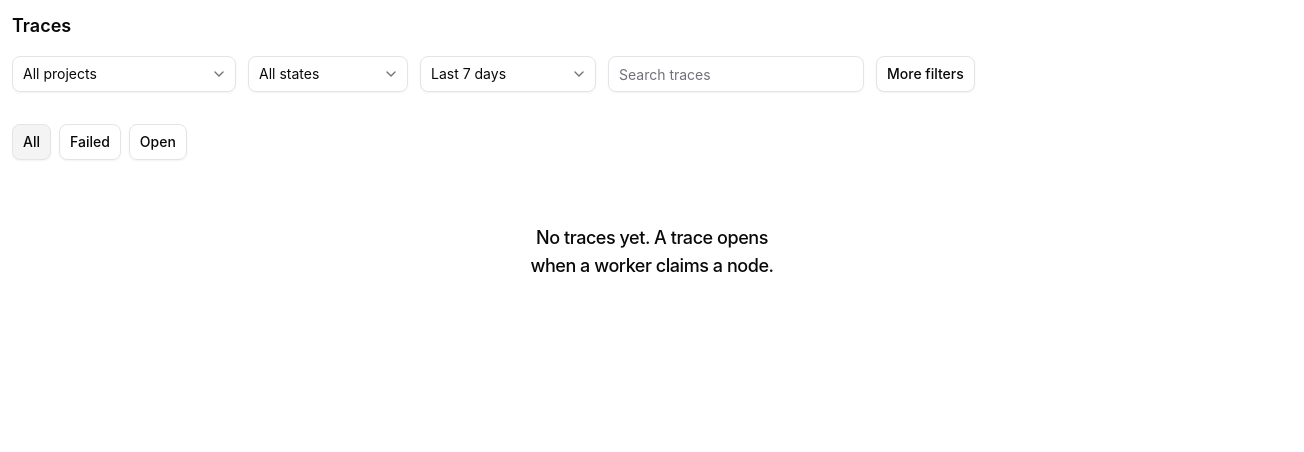
Test case: TracesScreen › shows the facet options that the server answered under More filters
Click the button "More filters": {"x": 925, "y": 74} [876, 56, 975, 92]
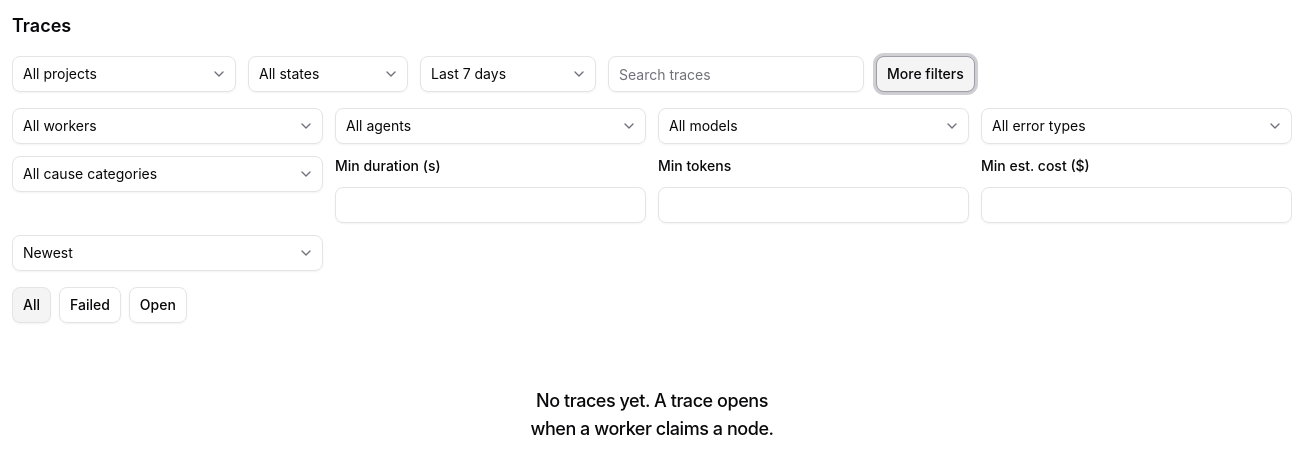
Click the dropdown labelled "worker": {"x": 60, "y": 126} [12, 108, 323, 144]
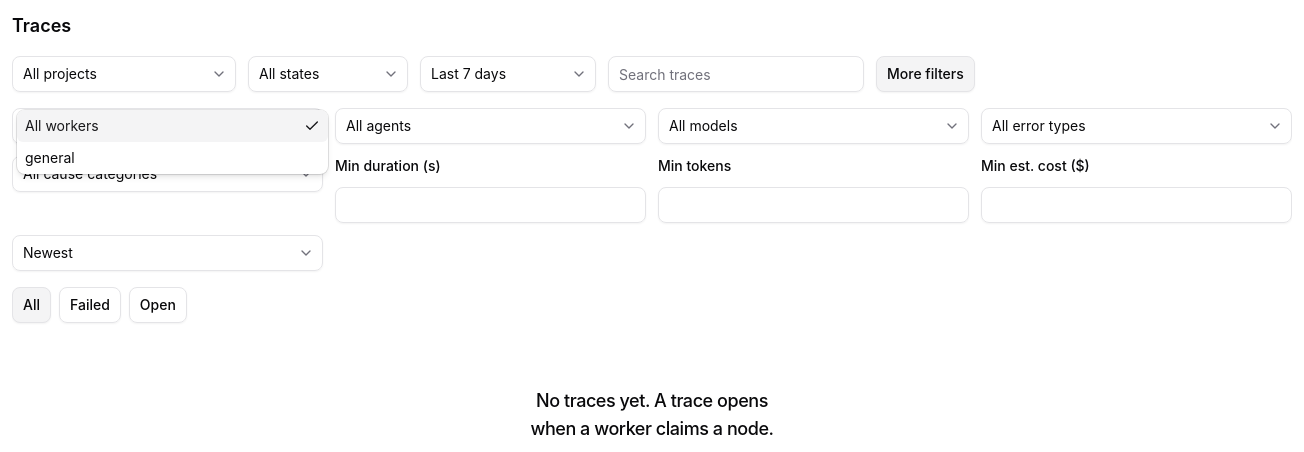
Expected: the options read "All workers", "general", in this order, [17, 110, 328, 142]; [25, 149, 75, 166]
